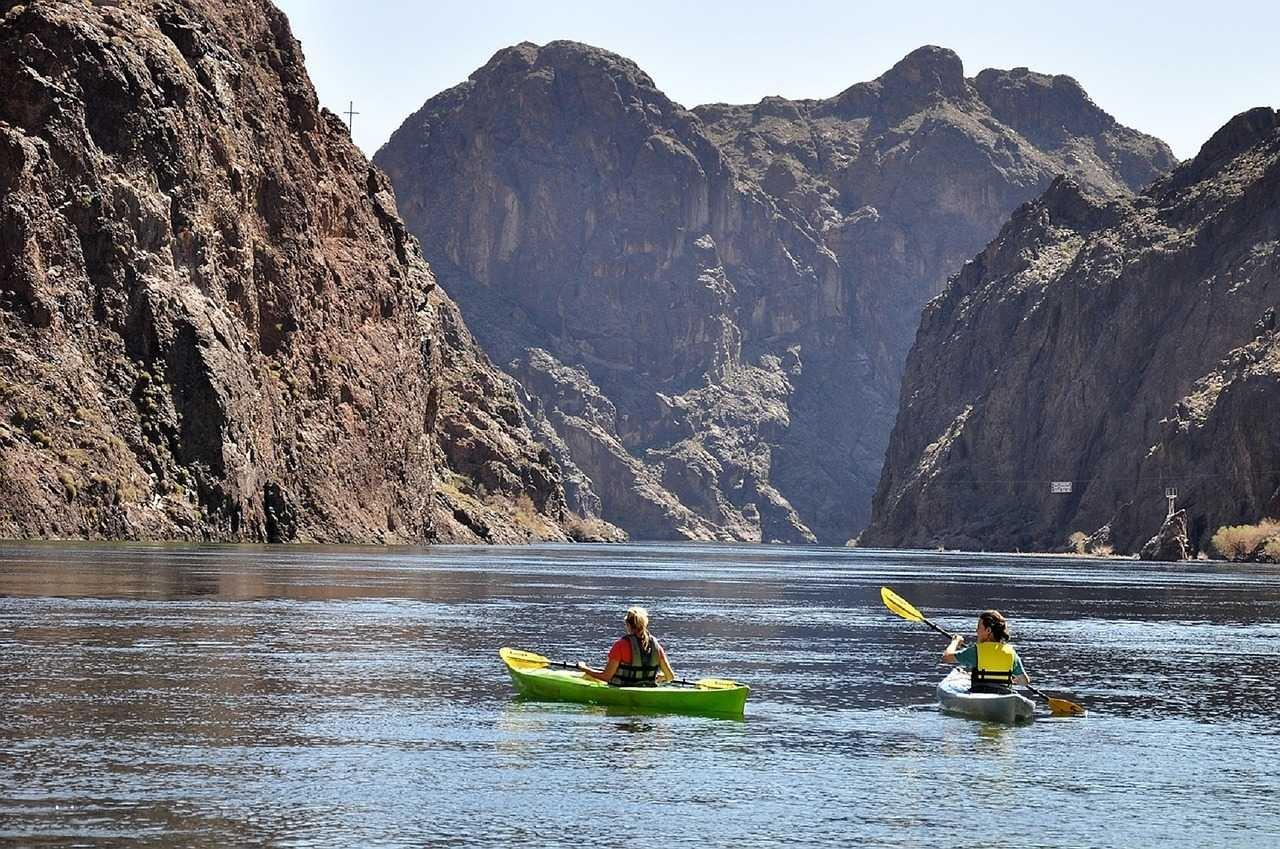kayak: (497, 645, 751, 713), (936, 672, 1038, 723)
